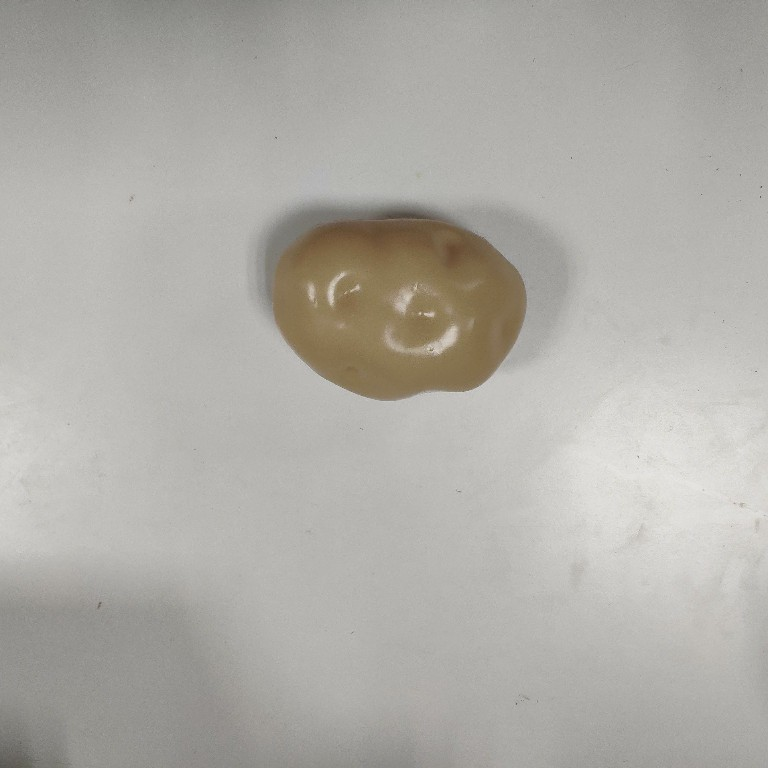fruit_potato: (266, 210, 537, 408)
